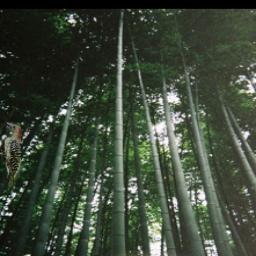Woodpecker: (0, 123, 22, 189)
